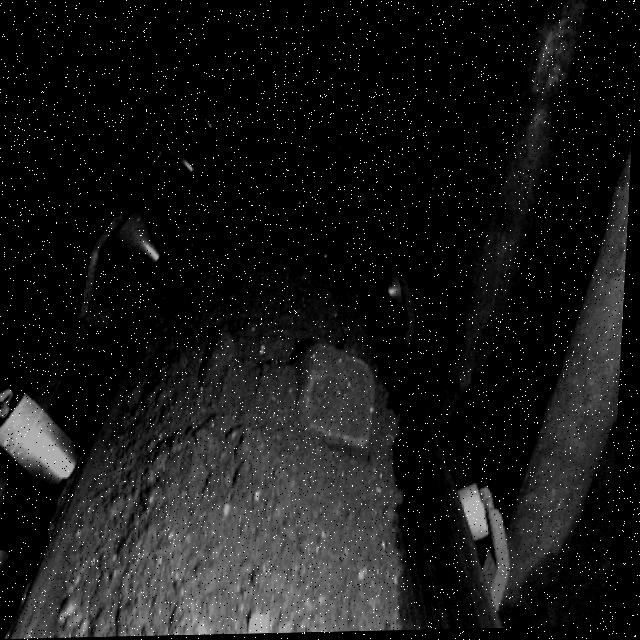large_sized_coal: (296, 346, 398, 457)
